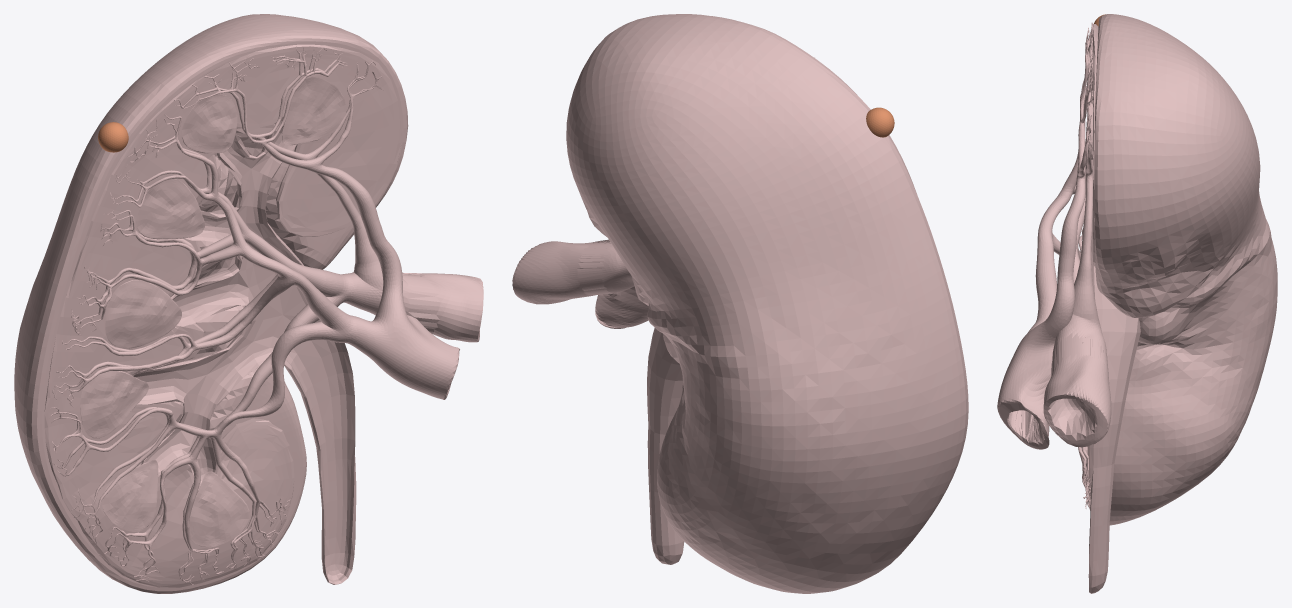
The model's file is kidney_0866e27f.glb.
3 views of the same model, side by side, from view 1: azimuth 30°, elevation 25°; view 2: azimuth 150°, elevation 25°; view 3: azimuth 270°, elevation 25° (orthographic). The views are drawn at different scales.
Parts seen in each view (by area): view 1: world; view 2: world; view 3: world.
Part boxes in pixels (<box>): world: <box>14,14,483,593</box>; world: <box>512,14,968,593</box>; world: <box>997,14,1277,593</box>.
Size of the model in its own units: 8.47 by 10.1 by 4.88.
